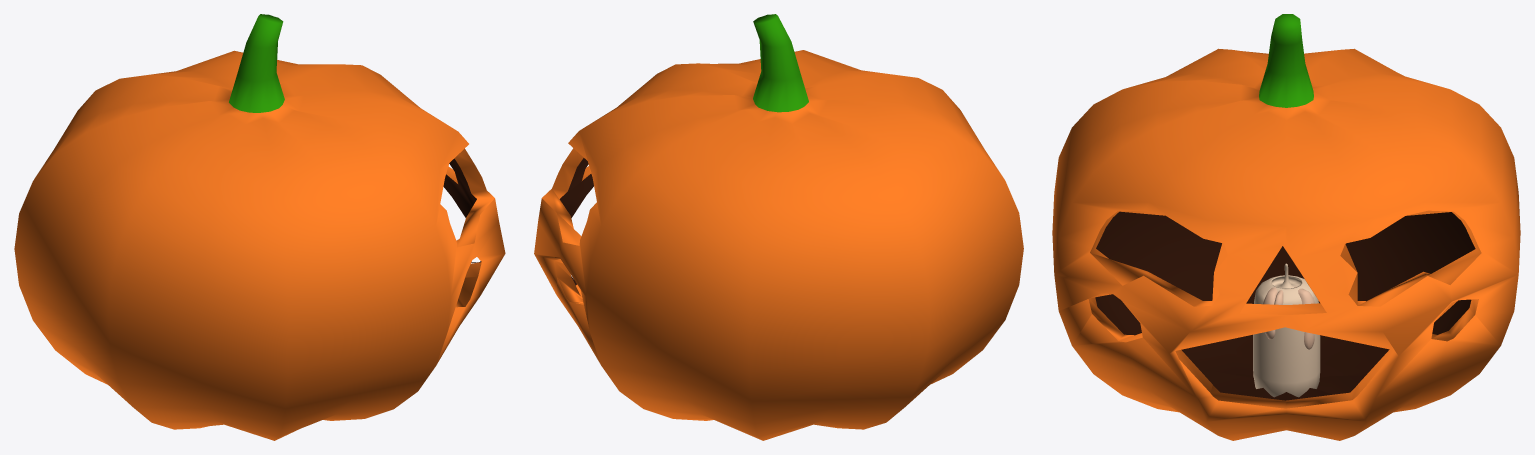
Rendered from PumpkinLowPoly.fbx.
3 views of the same model, side by side, from view 1: azimuth 30°, elevation 25°; view 2: azimuth 150°, elevation 25°; view 3: azimuth 270°, elevation 25° (orthographic). The views are drawn at different scales.
Parts seen in each view (by area): view 1: Sphere; view 2: Sphere; view 3: Sphere, Cylinder.
Boxes of the visible parts, x1,y1,x2,y2 form: Sphere: (14, 14, 505, 440); Sphere: (534, 14, 1023, 440); Sphere: (1052, 14, 1520, 440); Cylinder: (1253, 263, 1320, 397).
Bounding box in the file's own units: 200 × 184 × 200.
